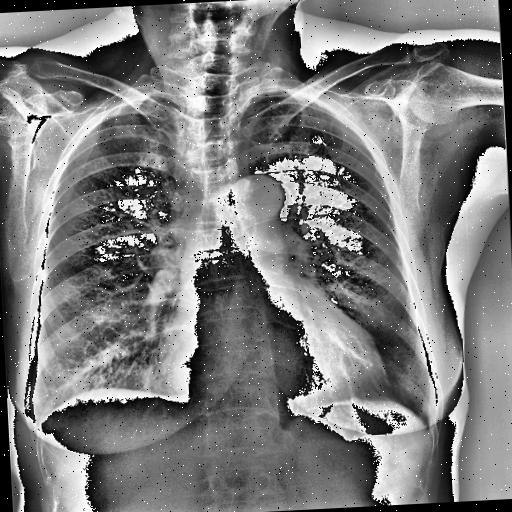0- Aortic enlargement: (226, 172, 288, 218), (236, 172, 288, 220)
11- Pleural thickening: (118, 91, 182, 107), (235, 91, 286, 106)
3- Cardiomegaly: (154, 315, 388, 409), (156, 327, 388, 411), (155, 332, 379, 408)
